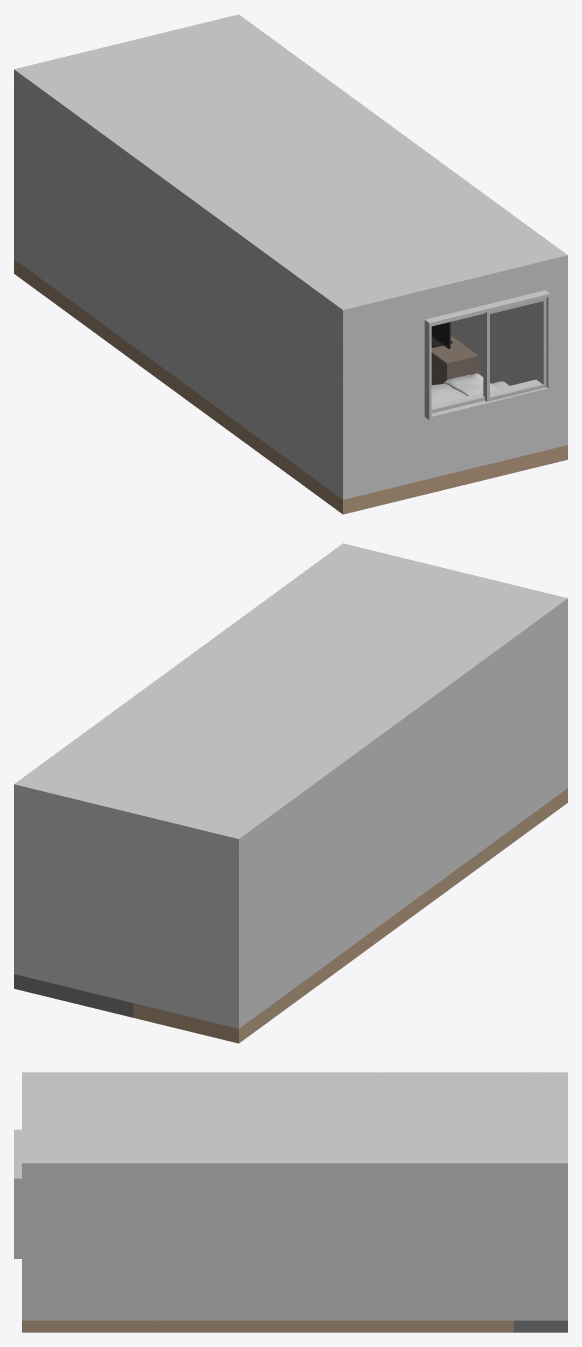
The model's file is room_apartment_furniture.glb.
The picture shows the model from 3 angles, top to bottom: view 1: azimuth 30°, elevation 25°; view 2: azimuth 150°, elevation 25°; view 3: azimuth 270°, elevation 25°; orthographic projection. The views are drawn at different scales.
Parts seen in each view (by area): view 1: Object_8; view 2: Object_8; view 3: Object_8.
Part boxes in pixels (left/top/right/bottom): Object_8: left=14, top=14, right=567, bottom=514; Object_8: left=14, top=543, right=567, bottom=1043; Object_8: left=14, top=1072, right=567, bottom=1332.
Size of the model in its own units: 3.2 by 2.78 by 8.23.
Materials: 1 (1 with a texture image).
